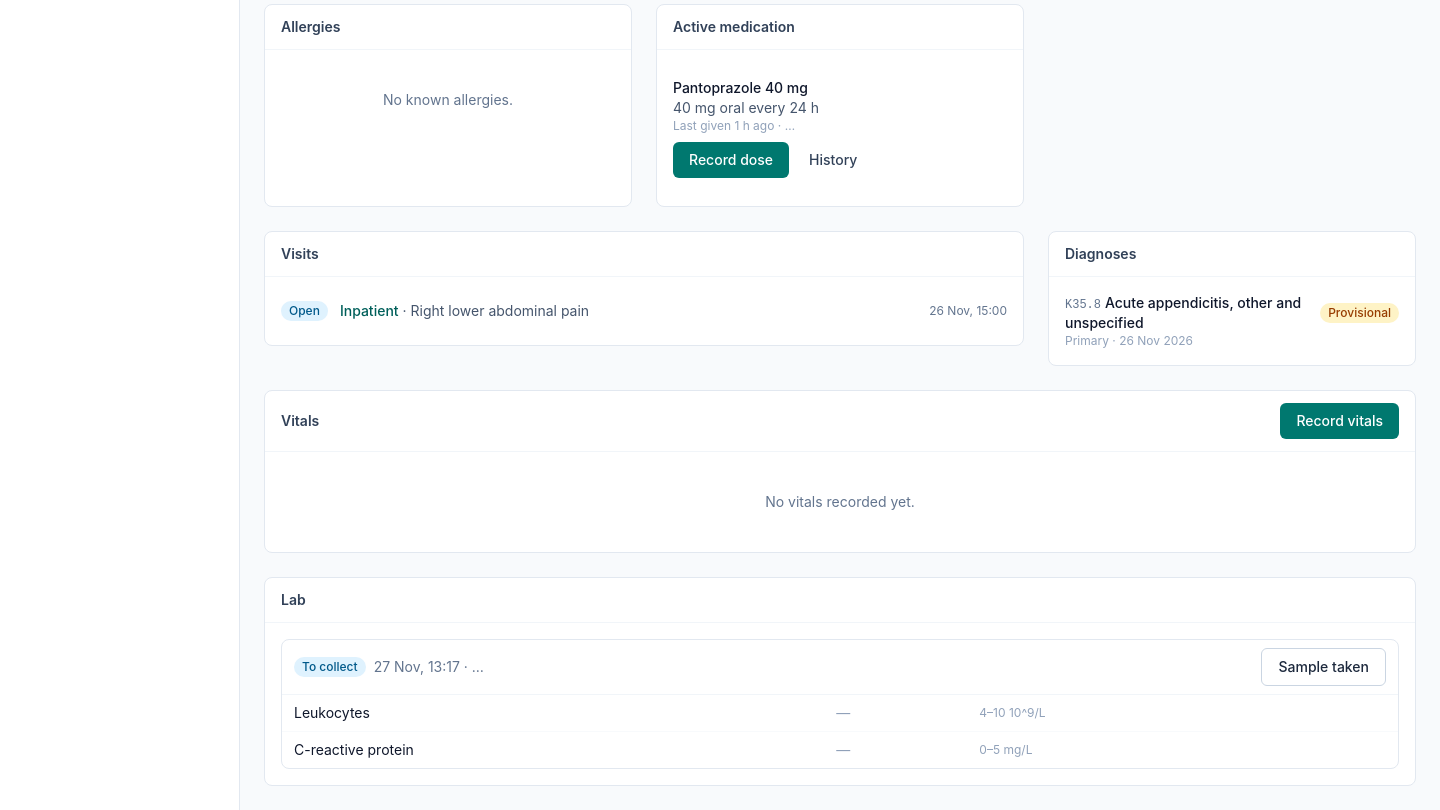
Test: nurse: lab on the ward › marks a sample as taken; a nurse cannot order
(page scrolled)
What coordinates should you click on to do the following:
click the button "Sample taken"
I would click on:
 (1324, 667)
Its box is x1=1262 y1=648 x2=1386 y2=686.
(page scrolled)
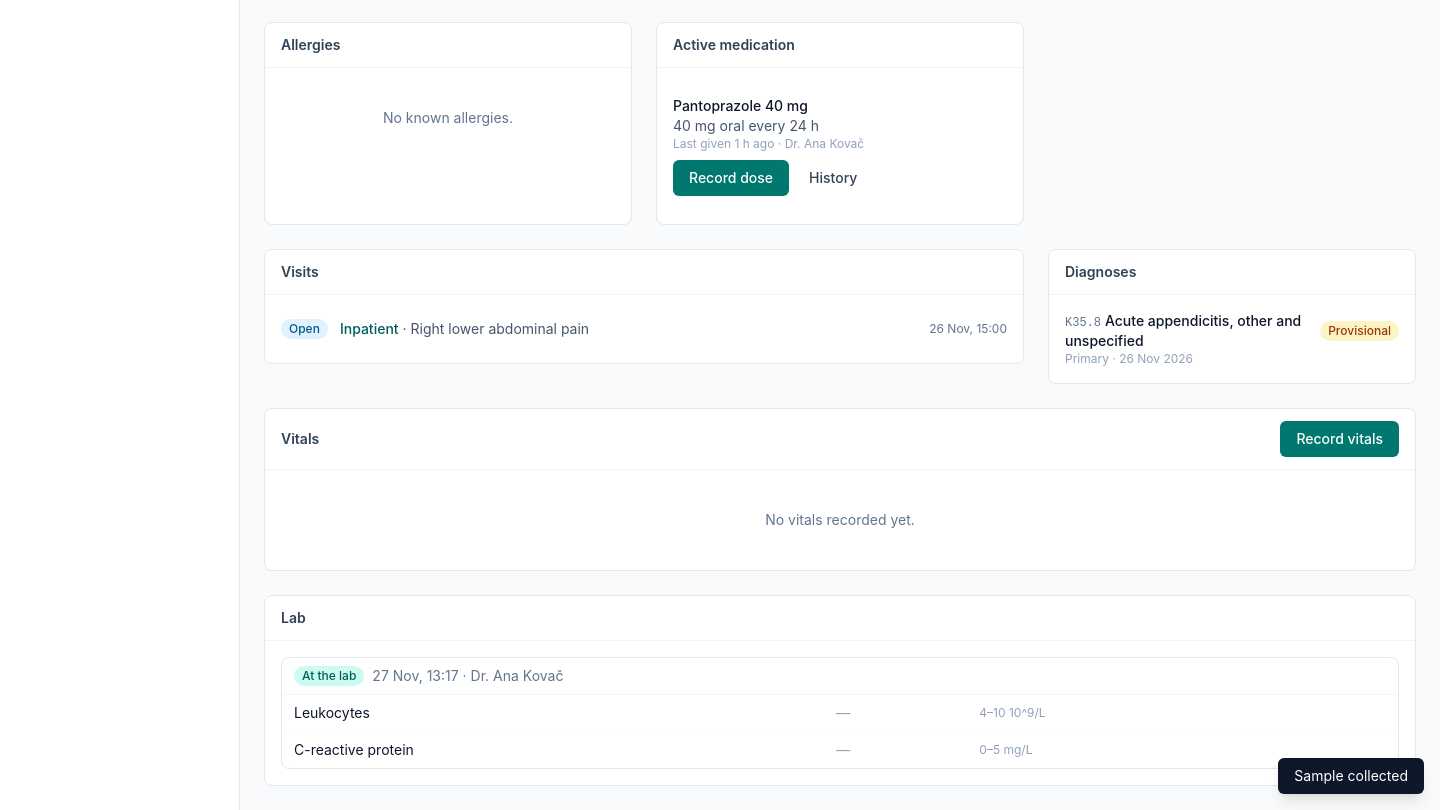
Now the text "At the lab" is shown, box x1=294 y1=666 x2=364 y2=686
